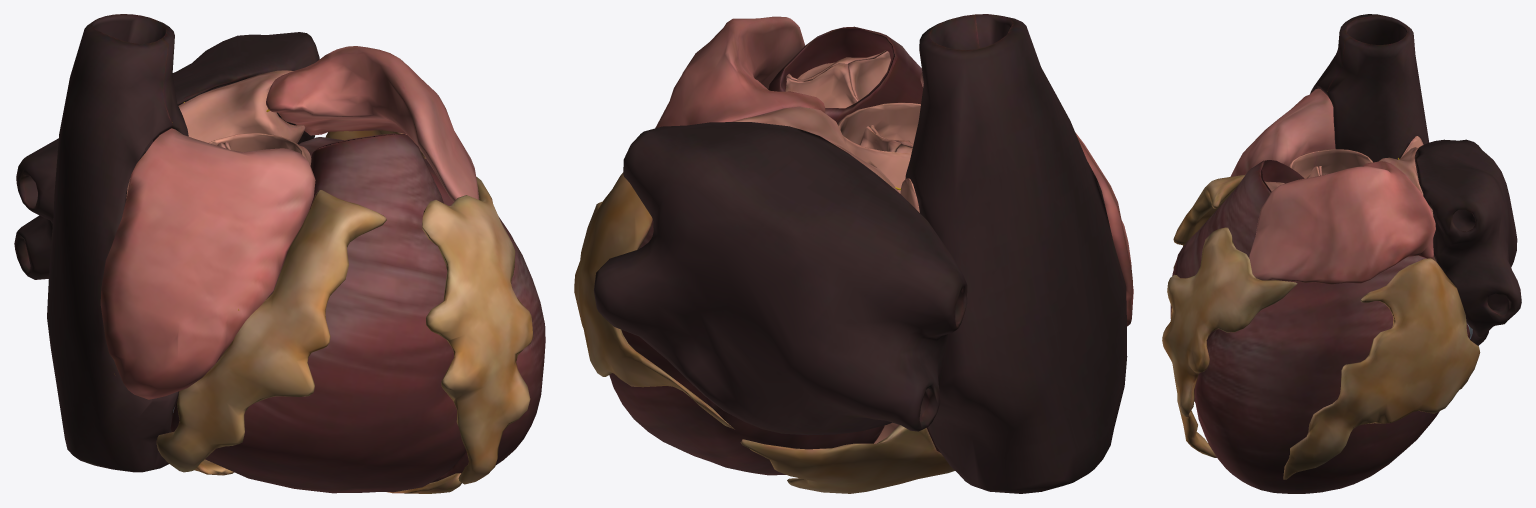
The model's file is organ-heart.glb.
The picture shows the model from 3 angles, left to right: view 1: azimuth 30°, elevation 25°; view 2: azimuth 150°, elevation 25°; view 3: azimuth 270°, elevation 25°; orthographic projection. The views are drawn at different scales.
Visible parts, largest first — view 1: Right_ventricle, Right_auricle, Right_atrium_to_superior_vena_cava, Right_epicardial_fat, Anterior_epicardial_fat, Left_auricle, Posterior_wall_of_left_atrium, Anterior_wall_of_left_atrium, Left_ventricle, Aortic_semilunar_valve, Inferior_epicardial_fat; view 2: Posterior_wall_of_left_atrium, Right_atrium_to_superior_vena_cava, Left_auricle, Left_ventricle, Left_epicardial_fat, Inferior_epicardial_fat, Right_ventricle, Aortic_semilunar_valve, Anterior_wall_of_left_atrium, Right_auricle, Left_cusp_of_pulmonary_pulmonic_or_semilunar_valve, Right_cusp_of_pulmonary_pulmonic_or_semilunar_valve; view 3: Left_ventricle, Left_epicardial_fat, Left_auricle, Posterior_wall_of_left_atrium, Right_atrium_to_superior_vena_cava, Anterior_epicardial_fat, Right_ventricle, Right_auricle, Right_epicardial_fat, Aortic_semilunar_valve, Anterior_wall_of_left_atrium.
Boxes of the visible parts, <box> form: Right_ventricle: <box>170,133,465,493</box>; Right_auricle: <box>100,128,315,399</box>; Right_atrium_to_superior_vena_cava: <box>47,14,188,472</box>; Right_epicardial_fat: <box>156,189,386,472</box>; Anterior_epicardial_fat: <box>422,177,533,484</box>; Left_auricle: <box>266,46,479,201</box>; Posterior_wall_of_left_atrium: <box>14,32,319,279</box>; Anterior_wall_of_left_atrium: <box>178,70,305,143</box>; Left_ventricle: <box>298,137,545,482</box>; Aortic_semilunar_valve: <box>209,133,311,165</box>; Inferior_epicardial_fat: <box>194,459,461,493</box>; Posterior_wall_of_left_atrium: <box>594,122,967,435</box>; Right_atrium_to_superior_vena_cava: <box>905,14,1127,493</box>; Left_auricle: <box>655,16,825,128</box>; Left_ventricle: <box>609,220,884,475</box>; Left_epicardial_fat: <box>574,172,734,429</box>; Inferior_epicardial_fat: <box>740,425,954,493</box>; Right_ventricle: <box>768,26,940,452</box>; Aortic_semilunar_valve: <box>837,102,920,193</box>; Anterior_wall_of_left_atrium: <box>734,106,898,192</box>; Right_auricle: <box>920,72,1133,326</box>; Left_cusp_of_pulmonary_pulmonic_or_semilunar_valve: <box>785,63,858,108</box>; Right_cusp_of_pulmonary_pulmonic_or_semilunar_valve: <box>848,50,890,100</box>; Left_ventricle: <box>1195,255,1470,493</box>; Left_epicardial_fat: <box>1283,258,1480,479</box>; Left_auricle: <box>1249,161,1435,284</box>; Posterior_wall_of_left_atrium: <box>1414,139,1521,345</box>; Right_atrium_to_superior_vena_cava: <box>1310,14,1429,162</box>; Anterior_epicardial_fat: <box>1162,227,1297,457</box>; Right_ventricle: <box>1170,160,1304,402</box>; Right_auricle: <box>1230,88,1335,176</box>; Right_epicardial_fat: <box>1173,174,1245,268</box>; Aortic_semilunar_valve: <box>1289,149,1372,178</box>; Anterior_wall_of_left_atrium: <box>1378,147,1436,261</box>.
Bounding box in the file's own units: 0.1174 × 0.1181 × 0.1056.
46 materials, 46 textured.
